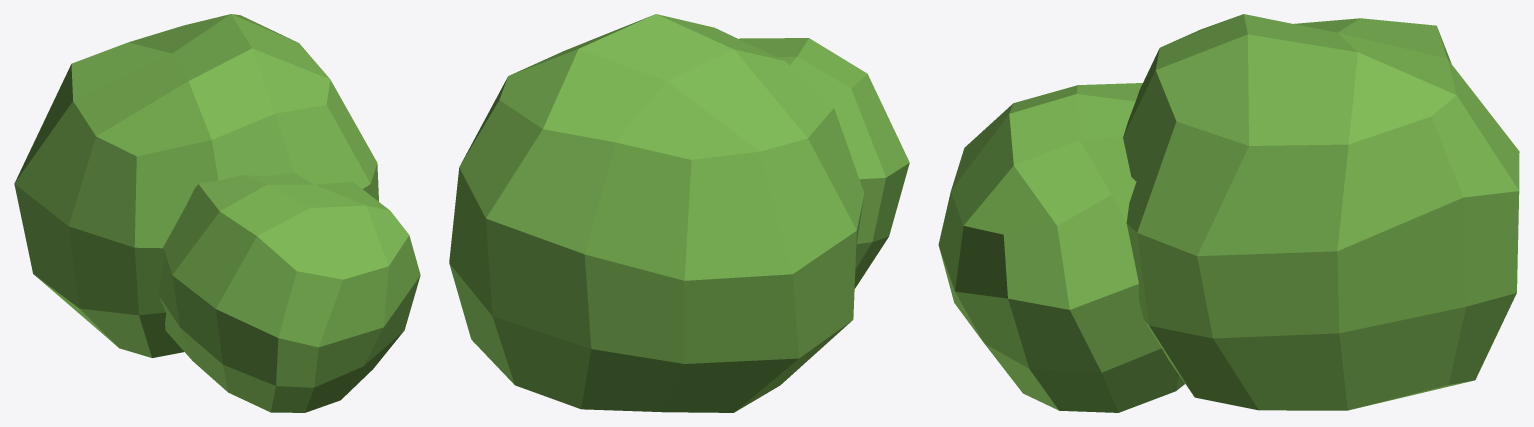
Rendered from msh_Bush03.fbx.
3 views of the same model, side by side, from view 1: azimuth 30°, elevation 25°; view 2: azimuth 150°, elevation 25°; view 3: azimuth 270°, elevation 25° (orthographic). The views are drawn at different scales.
Visible parts, largest first — view 1: Cube.016, Cube.017; view 2: Cube.016, Cube.017; view 3: Cube.016, Cube.017.
Part boxes in pixels (box(x1,y1,x2,y2)): Cube.016: box(14, 14, 378, 357); Cube.017: box(158, 170, 420, 412); Cube.016: box(449, 14, 864, 412); Cube.017: box(739, 38, 909, 288); Cube.016: box(1123, 14, 1519, 410); Cube.017: box(938, 83, 1184, 412).
Bounding box in the file's own units: 163 × 151 × 221.
